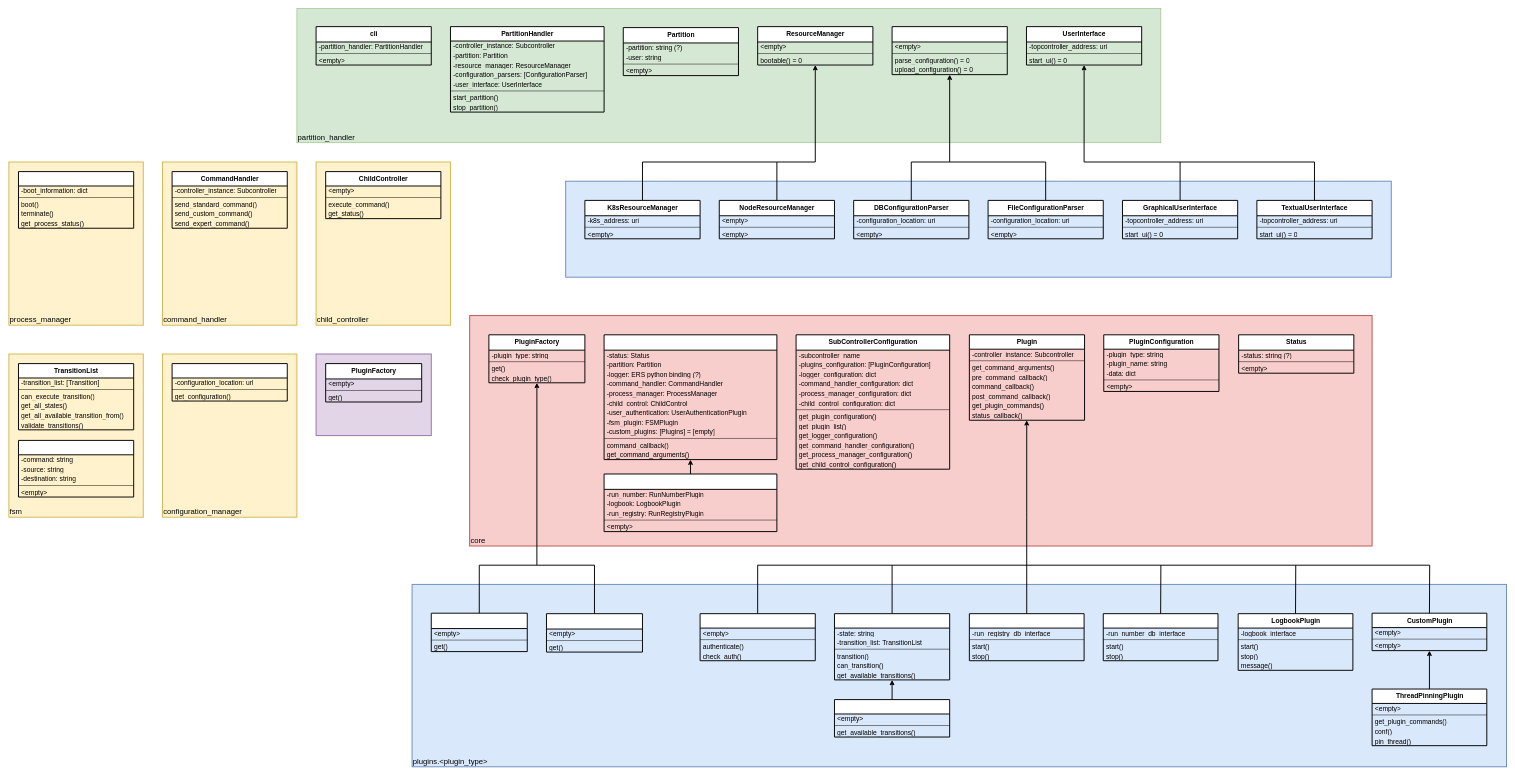
The diagram is 1515 pixels wide and 776 high, and some of its shapes have lost their labels. Here are the shapes that lost their labels. From the top down, the box of each, then its label:
(891, 26, 1008, 75): ConfigurationParser
(18, 171, 134, 228): ProcessManager
(565, 180, 1392, 277): partition_handler_tools
(171, 363, 288, 401): ConfigurationManager
(315, 353, 432, 436): plugins
(603, 334, 777, 460): SubController
(18, 440, 134, 497): Transition
(603, 473, 777, 532): TopController
(431, 612, 528, 652): FSMPluginFactory
(546, 613, 643, 652): MorePluginFactories...
(699, 613, 816, 661): UserAuthenticationPlugin
(834, 613, 950, 680): FSMPlugin
(969, 613, 1084, 661): RunRegistryPlugin
(1103, 613, 1218, 661): RunNumberPlugin
(834, 699, 950, 737): DAQPartitionFSMPlugin
